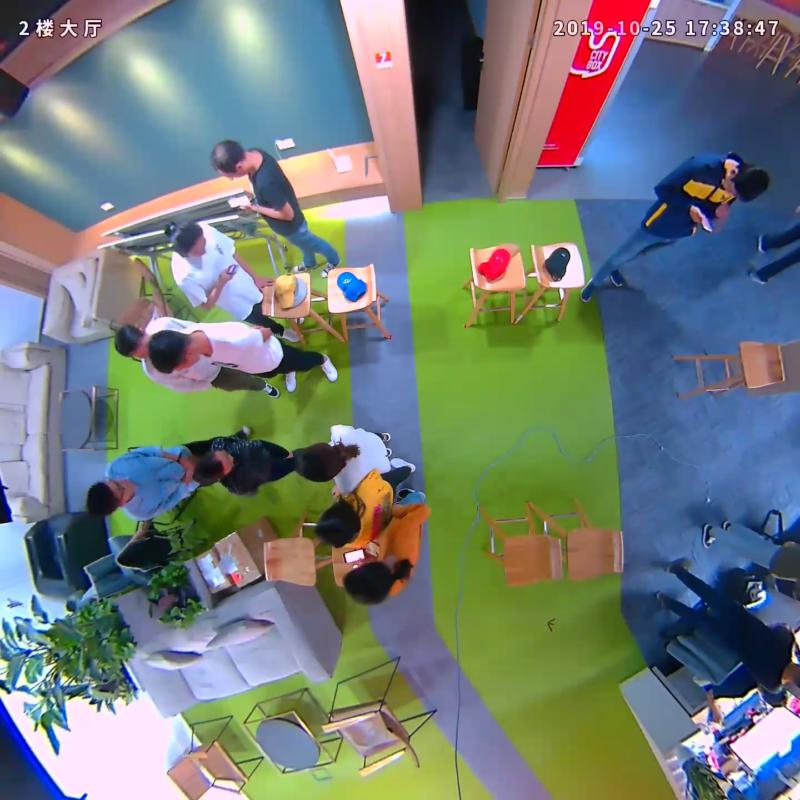head: (148, 330, 199, 376), (343, 560, 393, 605), (315, 501, 361, 547), (294, 442, 342, 483), (87, 477, 135, 515), (722, 165, 770, 203), (210, 139, 251, 178), (193, 448, 234, 484), (169, 220, 207, 258), (113, 324, 151, 359)
